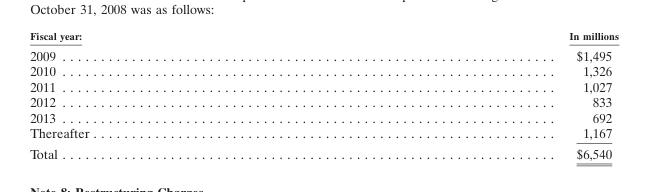table: (29, 29, 618, 161)
table column: (29, 29, 328, 161), (328, 29, 618, 161)
table column header: (29, 29, 618, 44)
table row: (29, 44, 618, 63), (29, 125, 618, 143), (29, 143, 618, 161), (29, 78, 618, 94), (29, 109, 618, 125), (29, 29, 618, 44), (29, 63, 618, 78), (29, 94, 618, 109)
